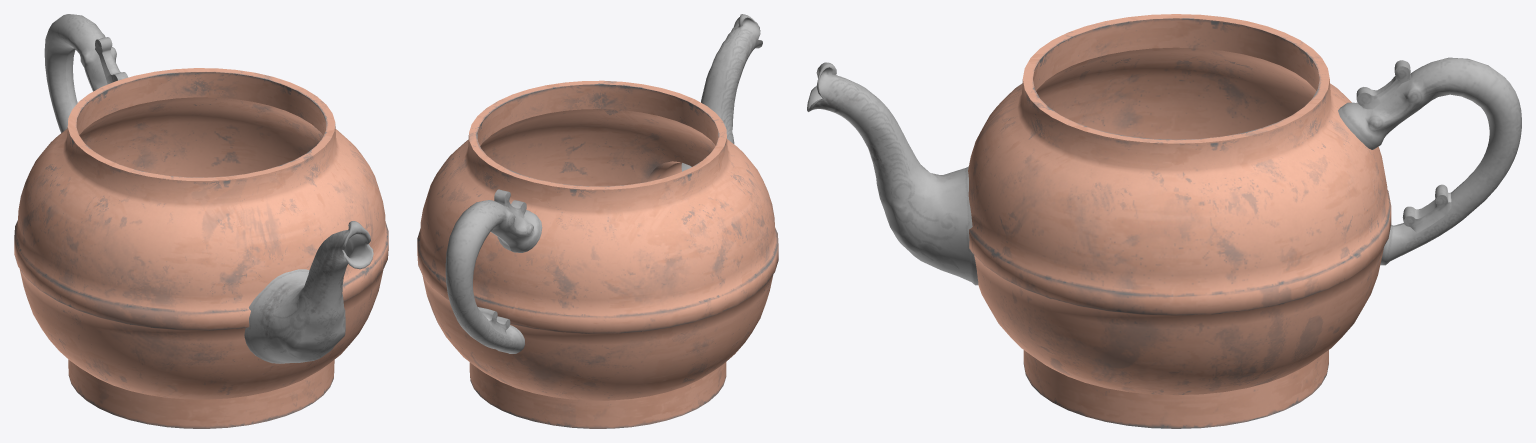
The model's file is SM_Teapot_02a.fbx.
The picture shows the model from 3 angles, left to right: view 1: azimuth 30°, elevation 25°; view 2: azimuth 150°, elevation 25°; view 3: azimuth 270°, elevation 25°; orthographic projection. The views are drawn at different scales.
Parts seen in each view (by area): view 1: SM_Teapot_02a_LOD0; view 2: SM_Teapot_02a_LOD0; view 3: SM_Teapot_02a_LOD0.
Part boxes in pixels (bbox=[...]): SM_Teapot_02a_LOD0: bbox=[14, 14, 388, 428]; SM_Teapot_02a_LOD0: bbox=[417, 14, 778, 428]; SM_Teapot_02a_LOD0: bbox=[807, 14, 1521, 428].
Size of the model in its own units: 33.63 by 55.94 by 26.43.
1 material, 1 textured.
